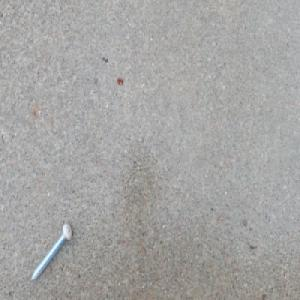Nail: (29, 220, 73, 282)
